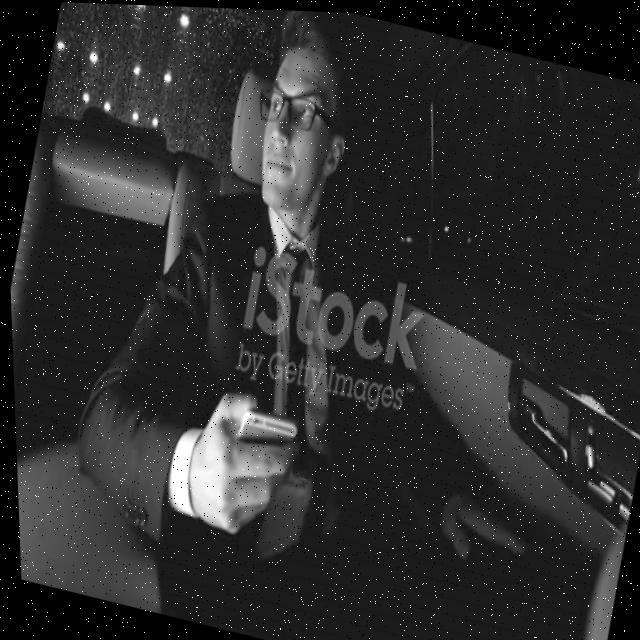PhoneCall: (206, 405, 298, 549)
